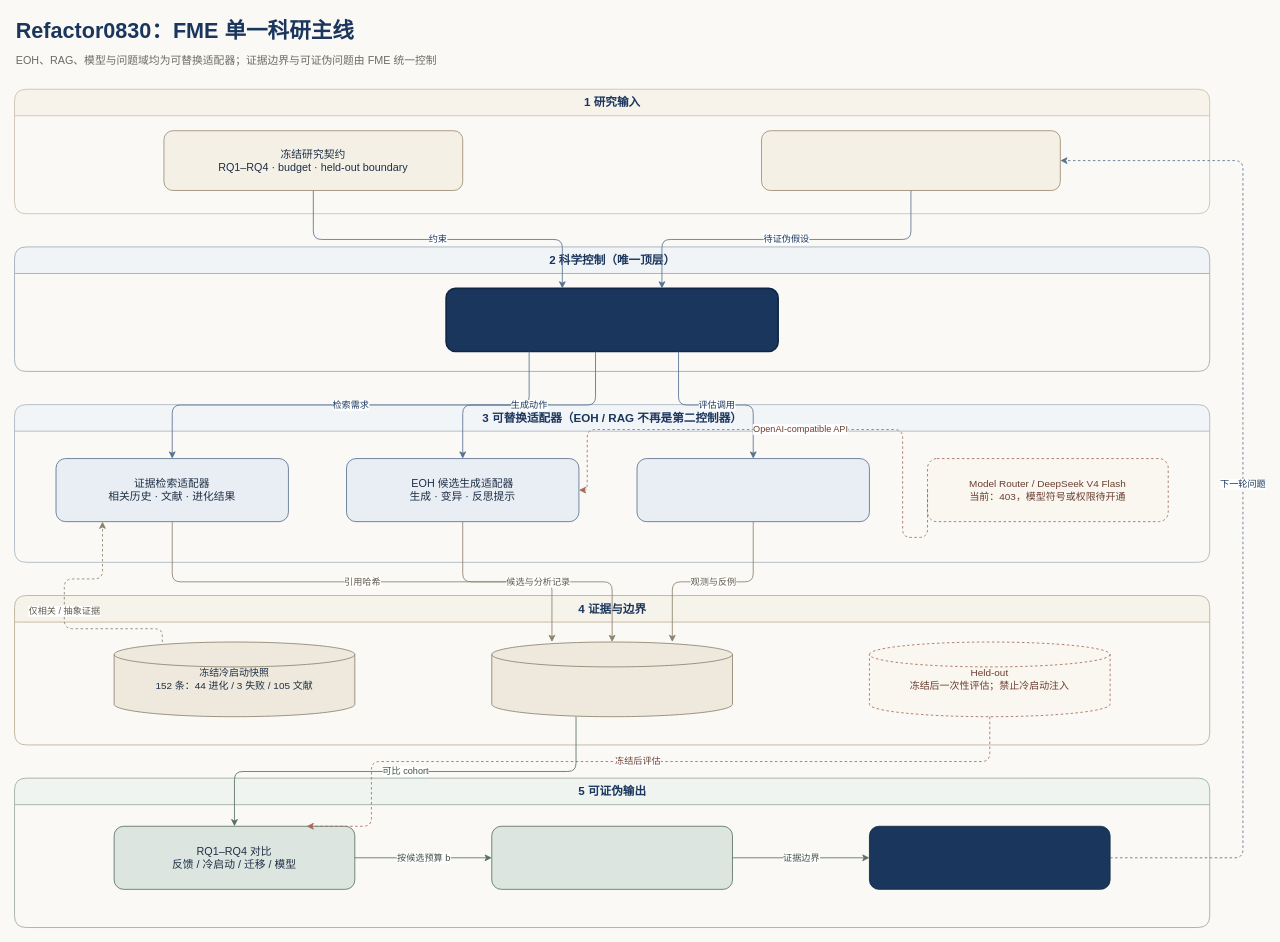
This 1280x942 diagram has some shape labels left out. The shapes that lost their labels are listed below. From the top down, each one's centre as x and y in pixels, then its label:
the point at 910,160: 问题栈与前瞻分析 假设 · 预测效果 · 置信度 · 最小证伪
the point at 612,319: FME Research Loop 反馈 → 机制选择 → 证据更新 → 决策
the point at 752,490: ProblemAdapter BP-online · TSP · CVRP
the point at 611,679: Dev 证据归档 行为 · 反例 · claim · decision
the point at 611,857: 双潜力曲线 质量潜力 Q(b) + 分析潜力 calibration
the point at 989,857: 人审决策 保留 / 修订 / 证伪 / 升级正式实验
